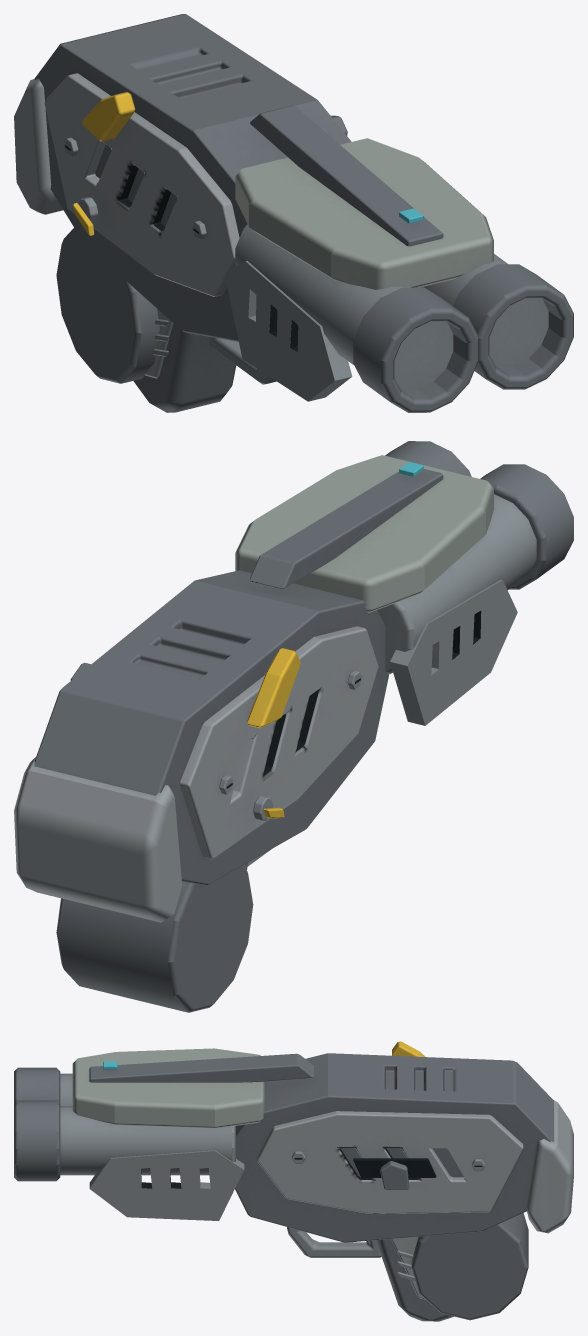
Rendered from shotgun.glb.
3 views of the same model, one above another, from view 1: azimuth 30°, elevation 25°; view 2: azimuth 150°, elevation 25°; view 3: azimuth 270°, elevation 25° (orthographic). The views are drawn at different scales.
Visible parts, largest first — view 1: shotgun-ka12-arsenal; view 2: shotgun-ka12-arsenal; view 3: shotgun-ka12-arsenal.
Boxes of the visible parts, <box> form: shotgun-ka12-arsenal: <box>14,14,573,412</box>; shotgun-ka12-arsenal: <box>14,441,573,1012</box>; shotgun-ka12-arsenal: <box>14,1041,573,1321</box>.
Bounding box in the file's own units: 0.4415 × 0.6724 × 1.34.
1 material, 1 textured.
